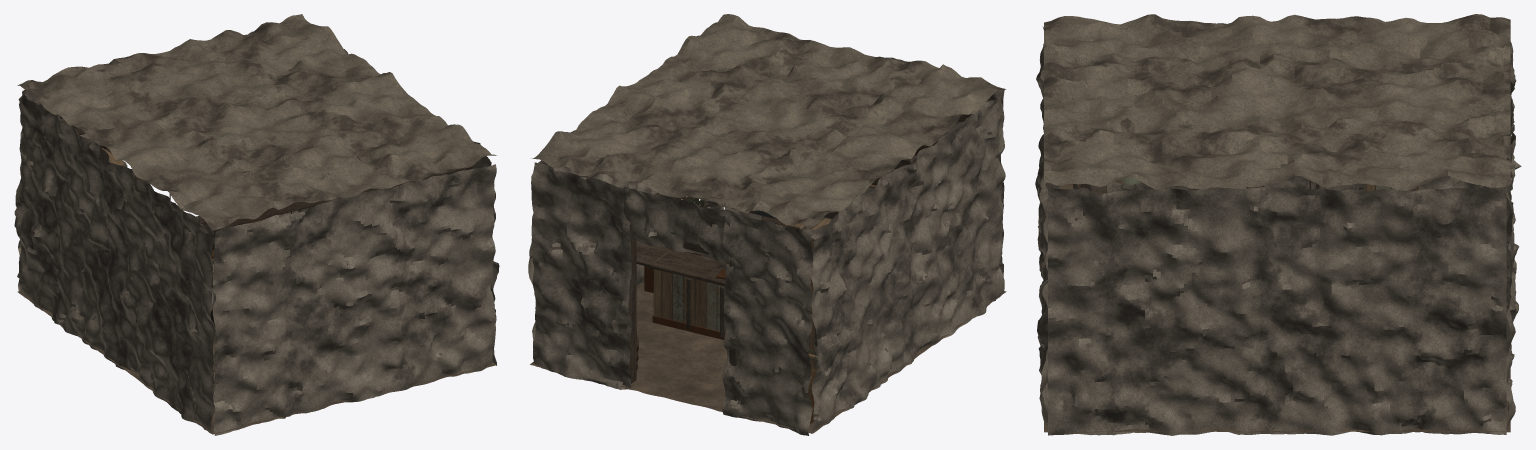
The model's file is env_sanctuary_radio.gltf.
3 renders of one model, left to right at view 1: azimuth 30°, elevation 25°; view 2: azimuth 150°, elevation 25°; view 3: azimuth 270°, elevation 25°, orthographic. The views are drawn at different scales.
Visible parts, largest first — view 1: radio_rock_mine_01, radio_rock_mine_02, radio_earth_packed_01, radio_timber_mine_01; view 2: radio_rock_mine_01, radio_rock_mine_02, radio_earth_packed_01, radio_timber_mine_01, radio_plank_survivor_01, radio_metal_rust_01; view 3: radio_rock_mine_01, radio_rock_mine_02, radio_earth_packed_01.
Part boxes in pixels (x1,y1,x2,y2): radio_rock_mine_01: [14, 31, 499, 435]; radio_rock_mine_02: [17, 14, 496, 230]; radio_earth_packed_01: [17, 291, 496, 434]; radio_timber_mine_01: [61, 120, 472, 264]; radio_rock_mine_01: [528, 35, 1005, 435]; radio_rock_mine_02: [531, 14, 1005, 228]; radio_earth_packed_01: [530, 282, 1006, 433]; radio_timber_mine_01: [628, 109, 980, 401]; radio_plank_survivor_01: [653, 194, 860, 368]; radio_metal_rust_01: [644, 252, 816, 423]; radio_rock_mine_01: [1035, 21, 1521, 435]; radio_rock_mine_02: [1044, 14, 1510, 190]; radio_earth_packed_01: [1044, 368, 1510, 432].
Bounding box in the file's own units: 5.35 × 3.74 × 6.31.
Materials: 19 (18 with a texture image).
